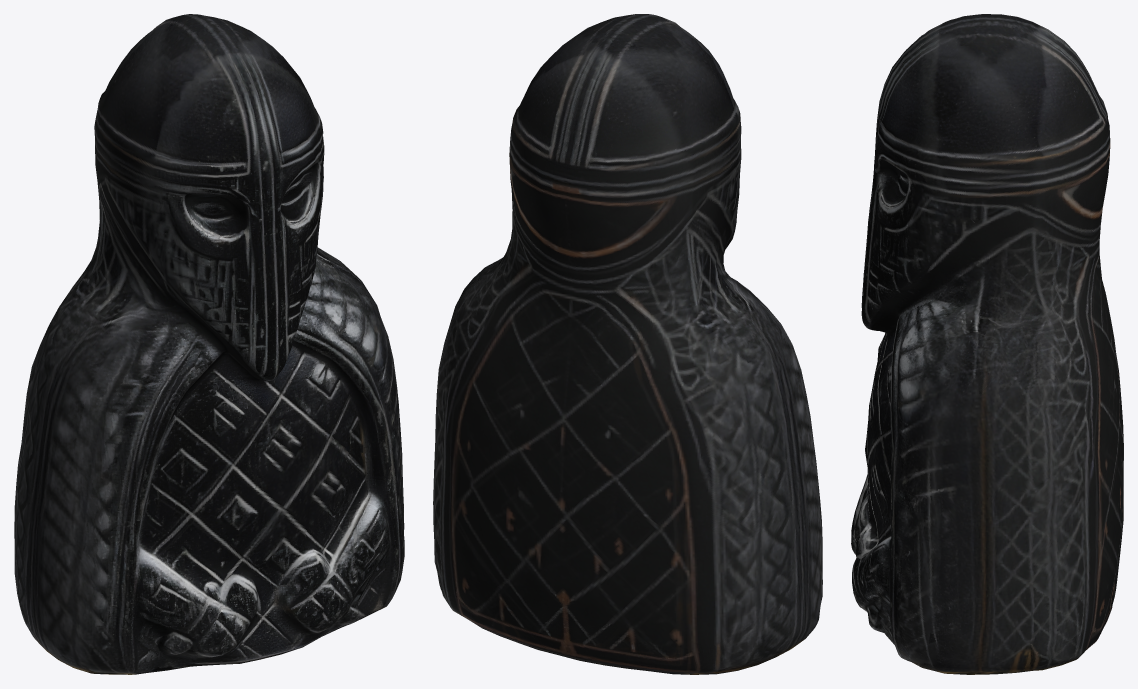
Rendered from attacker-piece.glb.
The picture shows the model from 3 angles, left to right: view 1: azimuth 30°, elevation 25°; view 2: azimuth 150°, elevation 25°; view 3: azimuth 270°, elevation 25°; orthographic projection.
Size of the model in its own units: 1.19 by 1.91 by 0.8101.
1 material, 1 textured.
